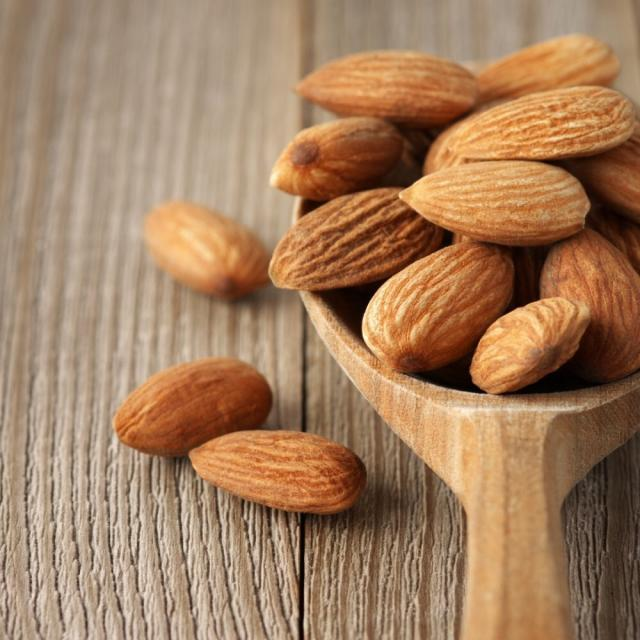almond: (365, 243, 517, 377), (265, 187, 450, 297), (112, 357, 272, 462), (403, 164, 590, 249), (190, 432, 367, 518), (545, 225, 640, 380), (292, 47, 477, 123), (445, 85, 640, 157), (140, 198, 273, 290), (473, 295, 590, 397), (464, 28, 624, 97), (275, 123, 400, 195)
